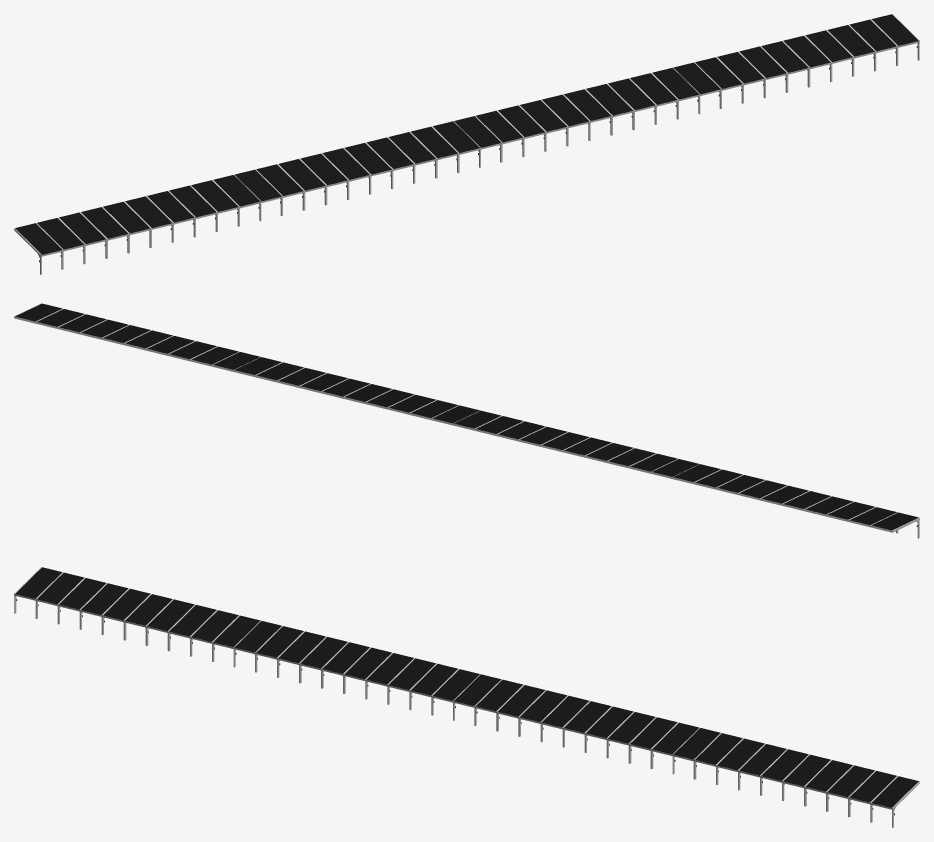
The model's file is Cap_40.glb.
3 views of the same model, one above another, from view 1: azimuth 30°, elevation 25°; view 2: azimuth 150°, elevation 25°; view 3: azimuth 330°, elevation 25° (orthographic).
Visible parts, largest first — view 1: Left.003, Middle.012, Middle.040, Middle.041, Middle.011, Middle.044, Middle.008, Middle.017, Middle.042, Middle.015, Middle.006, Middle.003 (+28 smaller); view 2: Left.003, Middle.019, Middle.041, Middle.043, Middle.045, Middle.002, Middle.011, Middle.013, Middle.021, Middle.025, Middle.005, Middle.008 (+25 smaller); view 3: Middle.023, Middle.008, Middle.025, Middle.024, Middle.009, Middle.045, Middle.037, Middle.012, Middle.017, Middle.021, Middle.039, Middle.044 (+28 smaller).
Part boxes in pixels (<box>): Left.003: <box>14,223,63,274</box>; Middle.012: <box>299,153,348,205</box>; Middle.040: <box>760,41,809,92</box>; Middle.041: <box>782,35,831,87</box>; Middle.011: <box>277,159,326,210</box>; Middle.044: <box>848,19,897,71</box>; Middle.008: <box>629,73,678,124</box>; Middle.017: <box>409,126,458,178</box>; Middle.042: <box>804,30,853,81</box>; Middle.015: <box>365,137,414,189</box>; Middle.006: <box>585,84,634,135</box>; Middle.003: <box>518,100,568,151</box>; Left.003: <box>870,512,919,538</box>; Middle.019: <box>848,507,898,533</box>; Middle.041: <box>102,325,151,344</box>; Middle.043: <box>58,314,107,334</box>; Middle.045: <box>14,303,63,323</box>; Middle.002: <box>387,395,437,414</box>; Middle.011: <box>607,448,656,468</box>; Middle.013: <box>563,437,612,457</box>; Middle.021: <box>804,496,854,516</box>; Middle.025: <box>716,475,765,494</box>; Middle.005: <box>321,378,370,398</box>; Middle.008: <box>255,362,304,382</box>; Middle.023: <box>123,594,172,640</box>; Middle.008: <box>628,717,677,763</box>; Middle.025: <box>167,604,216,651</box>; Middle.024: <box>145,599,194,645</box>; Middle.009: <box>650,722,698,768</box>; Middle.045: <box>870,776,918,822</box>; Middle.037: <box>693,733,742,779</box>; Middle.012: <box>299,636,347,683</box>; Middle.017: <box>409,663,457,710</box>; Middle.021: <box>79,583,127,629</box>; Middle.039: <box>738,743,786,790</box>; Middle.044: <box>848,770,896,817</box>.
Bounding box in the file's own units: 106 × 3.11 × 5.7.
5 materials, 5 textured.
